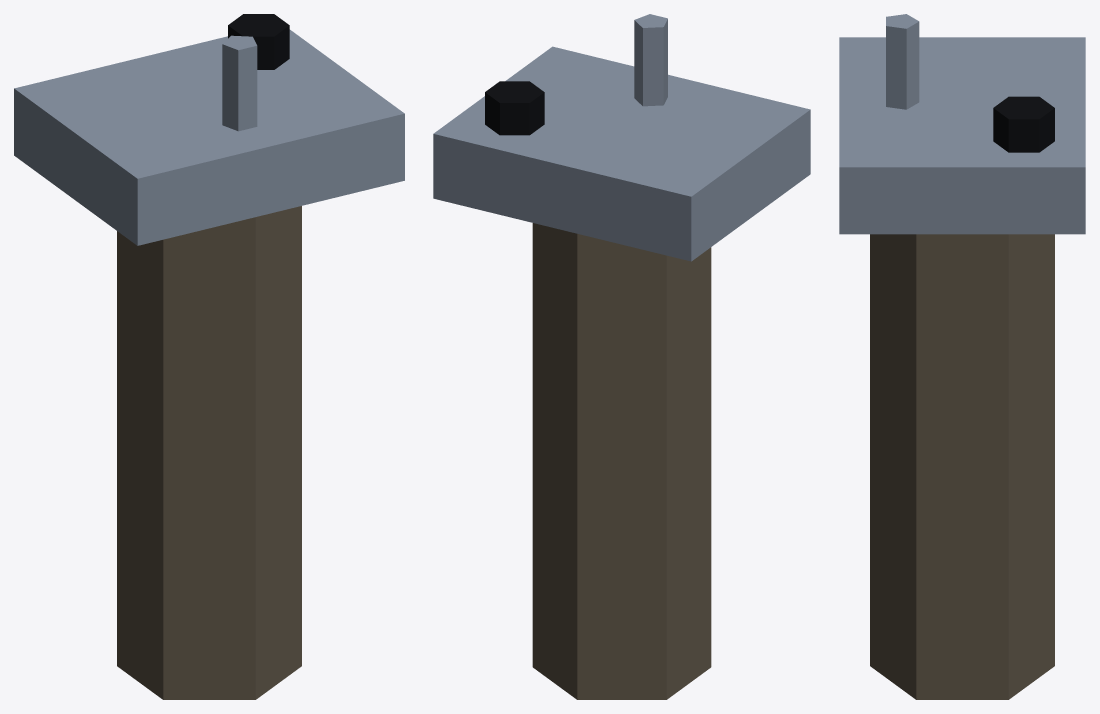
File: drinking_fountain.obj
3 views of the same model, side by side, from view 1: azimuth 30°, elevation 25°; view 2: azimuth 150°, elevation 25°; view 3: azimuth 270°, elevation 25° (orthographic). The views are drawn at different scales.
Visible parts, largest first — view 1: drinking_fountain; view 2: drinking_fountain; view 3: drinking_fountain.
Part boxes in pixels (x1,y1,x2,y2): drinking_fountain: (14,14,404,699); drinking_fountain: (433,14,810,699); drinking_fountain: (839,14,1085,699).
Size of the model in its own units: 0.5 by 1.15 by 0.4.
